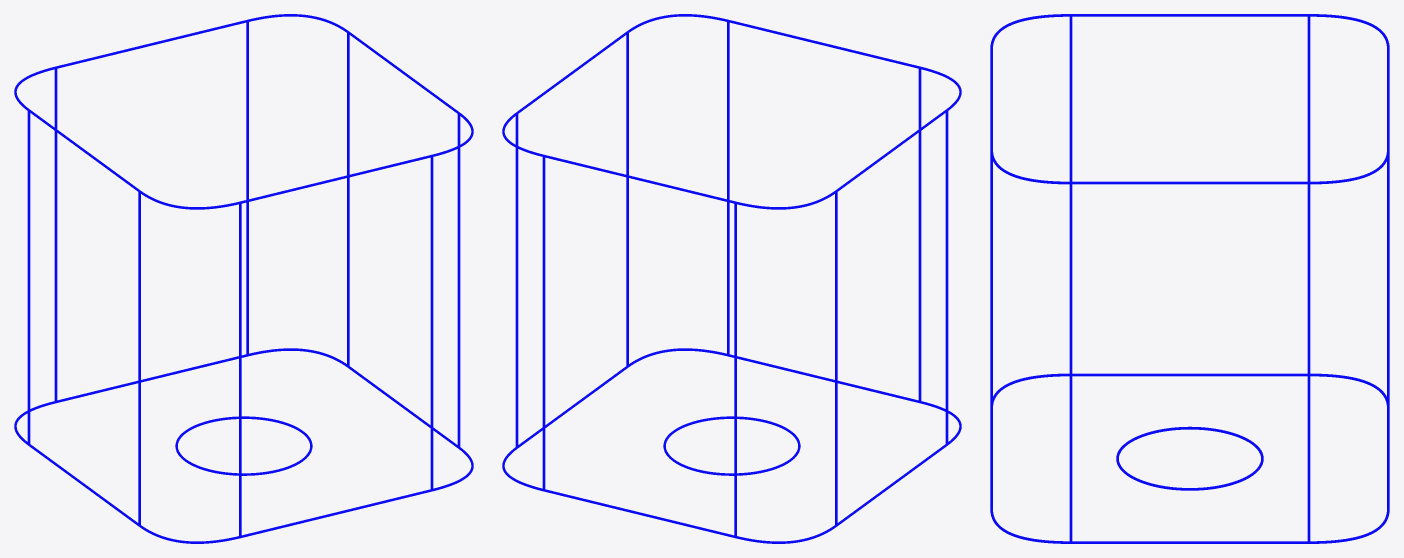
The model's file is onshape_simple_shape.glb.
3 renders of one model, left to right at view 1: azimuth 30°, elevation 25°; view 2: azimuth 150°, elevation 25°; view 3: azimuth 270°, elevation 25°, orthographic. The views are drawn at different scales.
Visible parts, largest first — view 1: onshape_simple_shape; view 2: onshape_simple_shape; view 3: onshape_simple_shape.
Part boxes in pixels (x1,y1,x2,y2): onshape_simple_shape: (14, 14, 473, 543); onshape_simple_shape: (502, 14, 961, 543); onshape_simple_shape: (990, 14, 1389, 543).
Size of the model in its own units: 0.5814 by 0.5814 by 0.5814.
